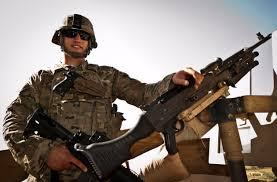gun: (75, 26, 272, 179), (24, 109, 143, 181)
